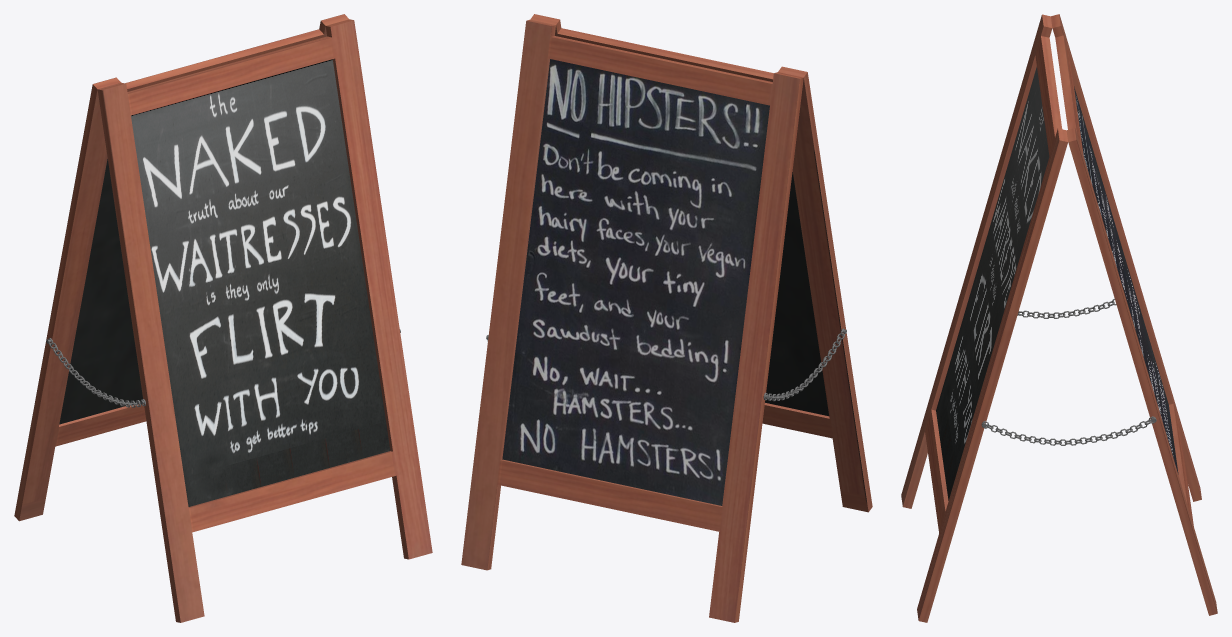
The model's file is sign30.glb.
3 renders of one model, left to right at view 1: azimuth 30°, elevation 25°; view 2: azimuth 150°, elevation 25°; view 3: azimuth 270°, elevation 25°, orthographic. The views are drawn at different scales.
Visible parts, largest first — view 1: Naked_Hipsters1_Naked_Hipsters_T_0; view 2: Naked_Hipsters1_Naked_Hipsters_T_0; view 3: Naked_Hipsters1_Naked_Hipsters_T_0.
Boxes of the visible parts, box(x1,y1,x2,y2) form: Naked_Hipsters1_Naked_Hipsters_T_0: box(14, 14, 432, 622); Naked_Hipsters1_Naked_Hipsters_T_0: box(461, 14, 872, 622); Naked_Hipsters1_Naked_Hipsters_T_0: box(901, 14, 1217, 622).
Size of the model in its own units: 0.719 by 1.2 by 0.7198.
Materials: 1 (1 with a texture image).
